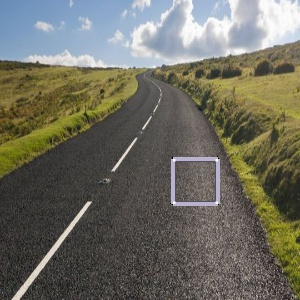square: (168, 156, 221, 207)
